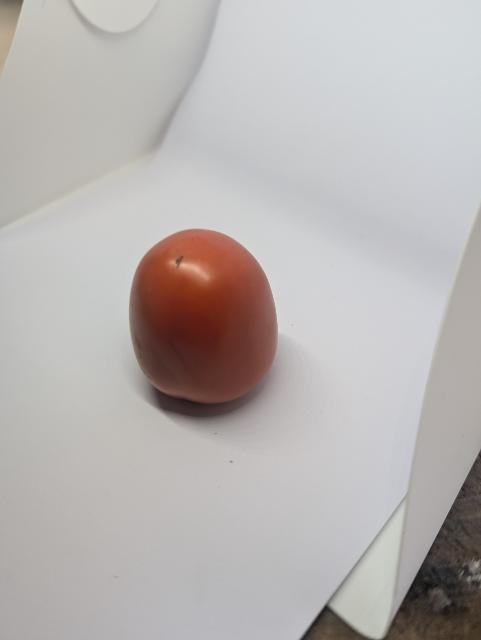red: (115, 225, 303, 420)
